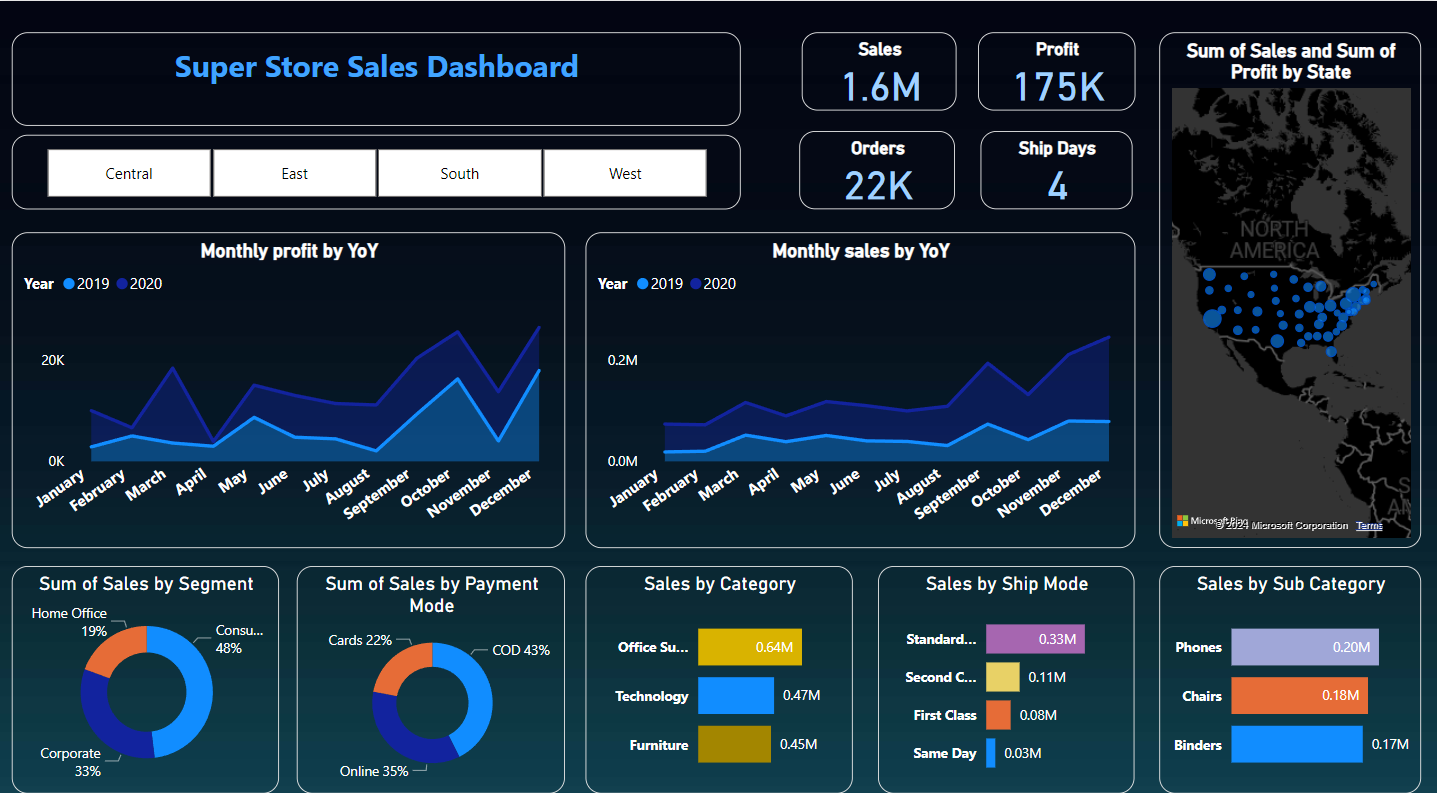

This screenshot's page, from the dashboard's own definition file:
{"tool":"powerbi","page":{"name":"Page 1","canvas":[1280,720],"ordinal":0},"visuals":[{"type":"clusteredBarChart","title":"Sales by Category","fields":{"Category":["SuperStore_Sales_Dataset 1 3.Category"],"Y":["Sum(SuperStore_Sales_Dataset 1 3.Sales)"]},"box":[522.2,501.7,237.6,202.6],"z":0},{"type":"clusteredBarChart","title":"Sales by Sub Category","fields":{"Y":["Sum(SuperStore_Sales_Dataset 1 3.Sales)"],"Category":["SuperStore_Sales_Dataset 1 3.Sub-Category"]},"box":[1032.4,501.7,232.8,202.6],"z":1000},{"type":"clusteredBarChart","title":"Sales by Ship Mode","fields":{"Y":["Sum(SuperStore_Sales_Dataset 1 3.Sales)"],"Category":["SuperStore_Sales_Dataset 1 3.Ship Mode"]},"box":[782.7,501.7,227.9,202.6],"z":2000},{"type":"stackedAreaChart","title":"Monthly sales by YoY","fields":{"Y":["Sum(SuperStore_Sales_Dataset 1 3.Sales)"],"Series":["SuperStore_Sales_Dataset 1 3.Order Date.Variation.Date Hierarchy.Year"],"Category":["SuperStore_Sales_Dataset 1 3.Order Date.Variation.Date Hierarchy.Month","SuperStore_Sales_Dataset 1 3.Order Date.Variation.Date Hierarchy.Day"]},"box":[522.2,205,488.4,281],"z":3000},{"type":"stackedAreaChart","title":"Monthly profit by YoY","fields":{"Series":["SuperStore_Sales_Dataset 1 3.Order Date.Variation.Date Hierarchy.Year"],"Category":["SuperStore_Sales_Dataset 1 3.Order Date.Variation.Date Hierarchy.Month","SuperStore_Sales_Dataset 1 3.Order Date.Variation.Date Hierarchy.Day"],"Y":["Sum(SuperStore_Sales_Dataset 1 3.Profit)"]},"box":[12.1,205,492.1,281],"z":4000},{"type":"map","fields":{"Category":["SuperStore_Sales_Dataset 1 3.State"],"Size":["Sum(SuperStore_Sales_Dataset 1 3.Sales)"]},"box":[1032.4,27.7,232.8,458.3],"z":5000},{"type":"donutChart","fields":{"Category":["SuperStore_Sales_Dataset 1 3.Segment"],"Y":["Sum(SuperStore_Sales_Dataset 1 3.Sales)"]},"box":[12.1,501.7,237.6,202.6],"z":6000},{"type":"donutChart","fields":{"Y":["Sum(SuperStore_Sales_Dataset 1 3.Sales)"],"Category":["SuperStore_Sales_Dataset 1 3.Payment Mode"]},"box":[265.3,501.7,238.8,202.6],"z":7000},{"type":"slicer","fields":{"Values":["SuperStore_Sales_Dataset 1 3.Region"]},"box":[12.1,119.4,647.6,66.3],"z":8000},{"type":"textbox","box":[12.1,27.7,647.6,83.2],"z":9000},{"type":"card","title":"Sales","fields":{"Values":["Sum(SuperStore_Sales_Dataset 1 3.Sales)"]},"box":[714,27.7,137.5,69.9],"z":10000},{"type":"card","title":"Orders","fields":{"Values":["Sum(SuperStore_Sales_Dataset 1 3.Quantity)"]},"box":[712.8,115.8,138.7,69.9],"z":11000},{"type":"card","title":"Profit","fields":{"Values":["Sum(SuperStore_Sales_Dataset 1 3.Profit)"]},"box":[870.8,27.7,139.9,69.9],"z":12000},{"type":"card","title":"Ship Days","fields":{"Values":["Avg(SuperStore_Sales_Dataset 1 3.Avgdelivery)"]},"box":[873.2,115.8,135.1,69.9],"z":13000}]}

Visuals, with their boxes in screenshot pixels (x1, y1, x2, y2), scaled from the page's 1280x720 canvas onto the 1437x793 screenshot:
"Sales by Category" clusteredBarChart: <bbox>586, 553, 853, 776</bbox>
"Sales by Sub Category" clusteredBarChart: <bbox>1159, 553, 1420, 776</bbox>
"Sales by Ship Mode" clusteredBarChart: <bbox>879, 553, 1135, 776</bbox>
"Monthly sales by YoY" stackedAreaChart: <bbox>586, 226, 1135, 535</bbox>
"Monthly profit by YoY" stackedAreaChart: <bbox>14, 226, 566, 535</bbox>
map - SuperStore_Sales_Dataset 1 3.State x Sum(SuperStore_Sales_Dataset 1 3.Sales): <bbox>1159, 31, 1420, 535</bbox>
donutChart - SuperStore_Sales_Dataset 1 3.Segment x Sum(SuperStore_Sales_Dataset 1 3.Sales): <bbox>14, 553, 280, 776</bbox>
donutChart - Sum(SuperStore_Sales_Dataset 1 3.Sales) x SuperStore_Sales_Dataset 1 3.Payment Mode: <bbox>298, 553, 566, 776</bbox>
slicer - SuperStore_Sales_Dataset 1 3.Region: <bbox>14, 132, 741, 205</bbox>
textbox: <bbox>14, 31, 741, 122</bbox>
"Sales" card: <bbox>802, 31, 956, 107</bbox>
"Orders" card: <bbox>800, 128, 956, 205</bbox>
"Profit" card: <bbox>978, 31, 1135, 107</bbox>
"Ship Days" card: <bbox>980, 128, 1132, 205</bbox>
